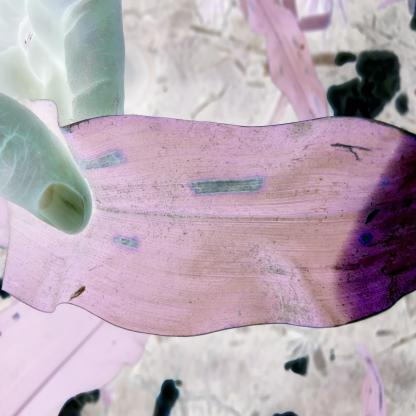corn gray leaf spot: (2, 92, 324, 302)
